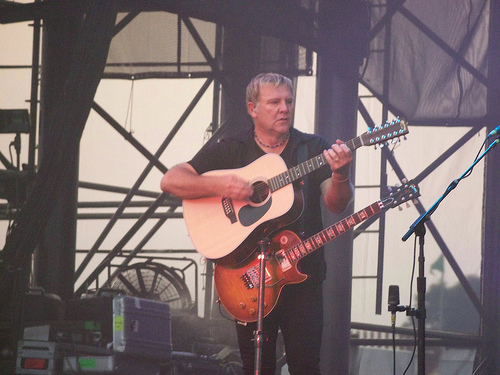guitar: (182, 117, 411, 268)
